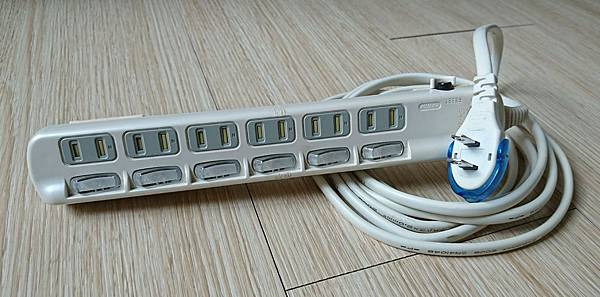socket: (26, 67, 523, 206)
